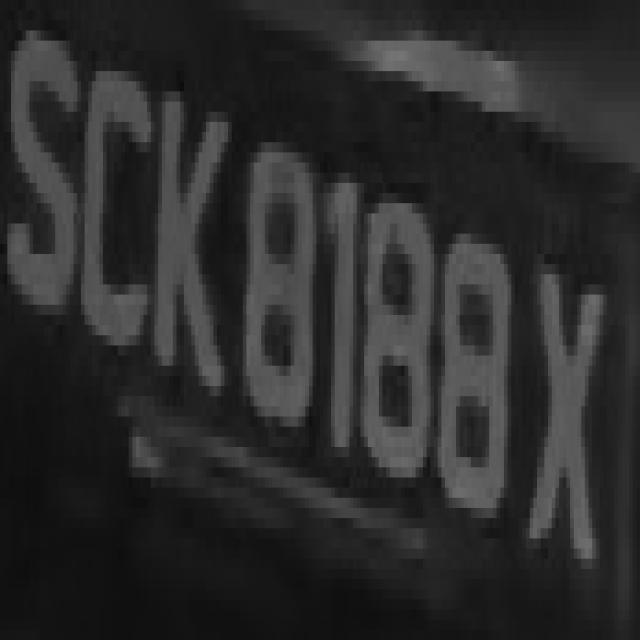1: (316, 142, 353, 518)
8: (431, 193, 512, 579), (236, 112, 316, 457), (357, 152, 434, 488)
C: (78, 20, 154, 376)
K: (158, 61, 232, 416)
S: (4, 20, 77, 376)
X: (515, 213, 603, 600)
